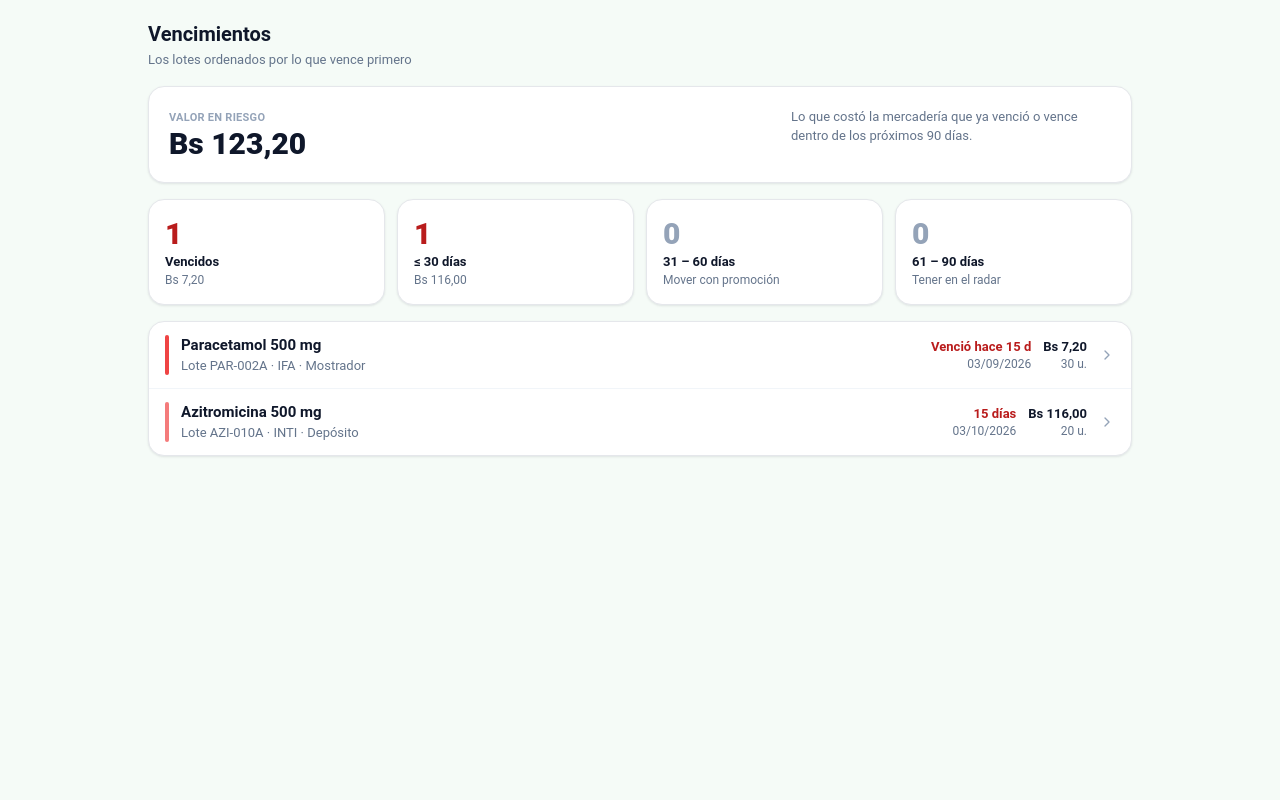
Test: Lo que dice el detalle › con aprobación, queda pendiente hasta que alguien la apruebe
This screenshot has width=1280, height=800.
Click the text "Azitromicina 500 mg": click(251, 412) [181,402,322,420]
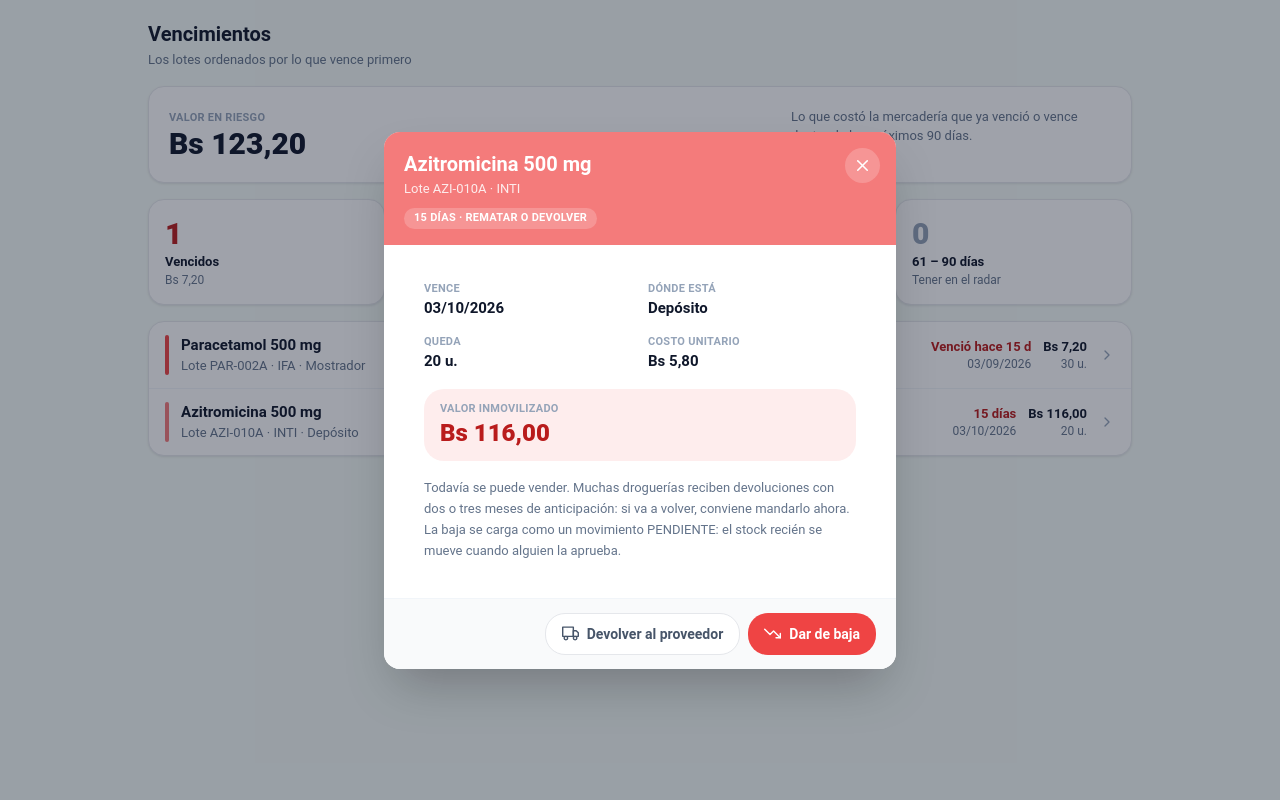
Check: the dialog shows "La baja se carga como un movimiento PENDIENTE", box [424,522,822,558]
